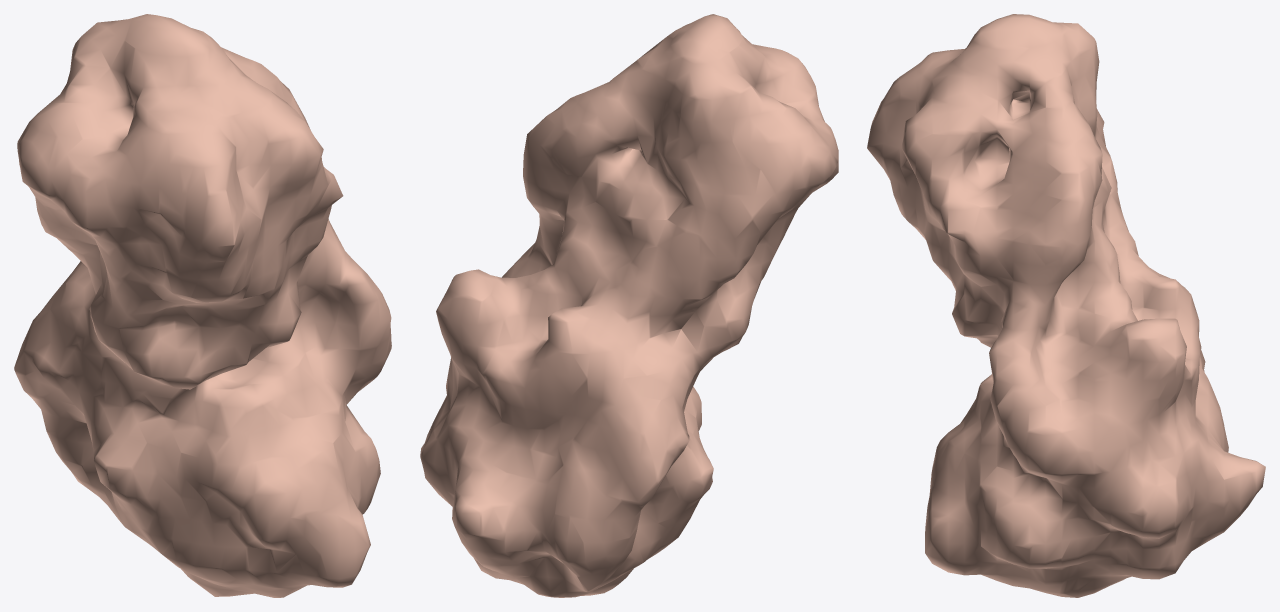
The model's file is phosphofructokinase.dae.
3 renders of one model, left to right at view 1: azimuth 30°, elevation 25°; view 2: azimuth 150°, elevation 25°; view 3: azimuth 270°, elevation 25°, orthographic. The views are drawn at different scales.
Visible parts, largest first — view 1: CoarseMS_4pfk; view 2: CoarseMS_4pfk; view 3: CoarseMS_4pfk.
Boxes of the visible parts, x1,y1,x2,y2 form: CoarseMS_4pfk: [14, 14, 391, 597]; CoarseMS_4pfk: [420, 14, 838, 597]; CoarseMS_4pfk: [867, 14, 1265, 597].
Size of the model in its own units: 45.6 by 72.19 by 48.69.
